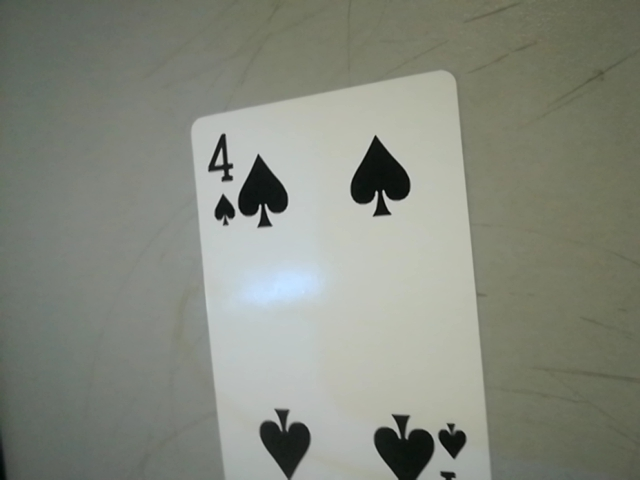ht 4: (192, 123, 243, 231)
